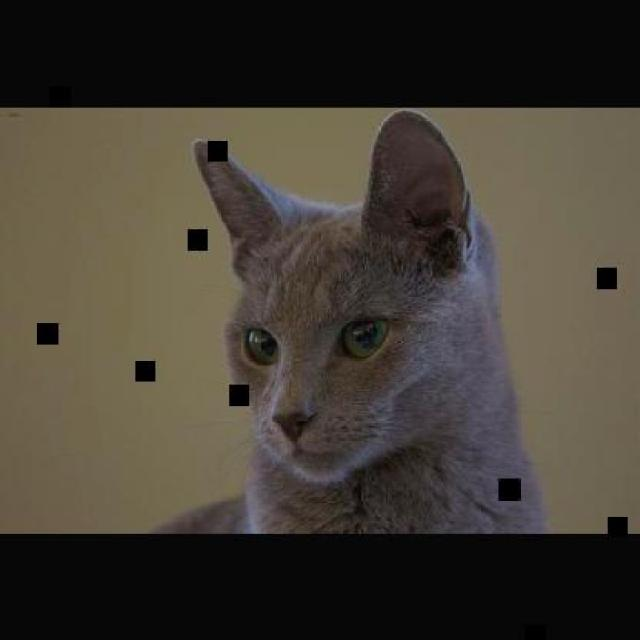unauthorized: (151, 108, 549, 534)
